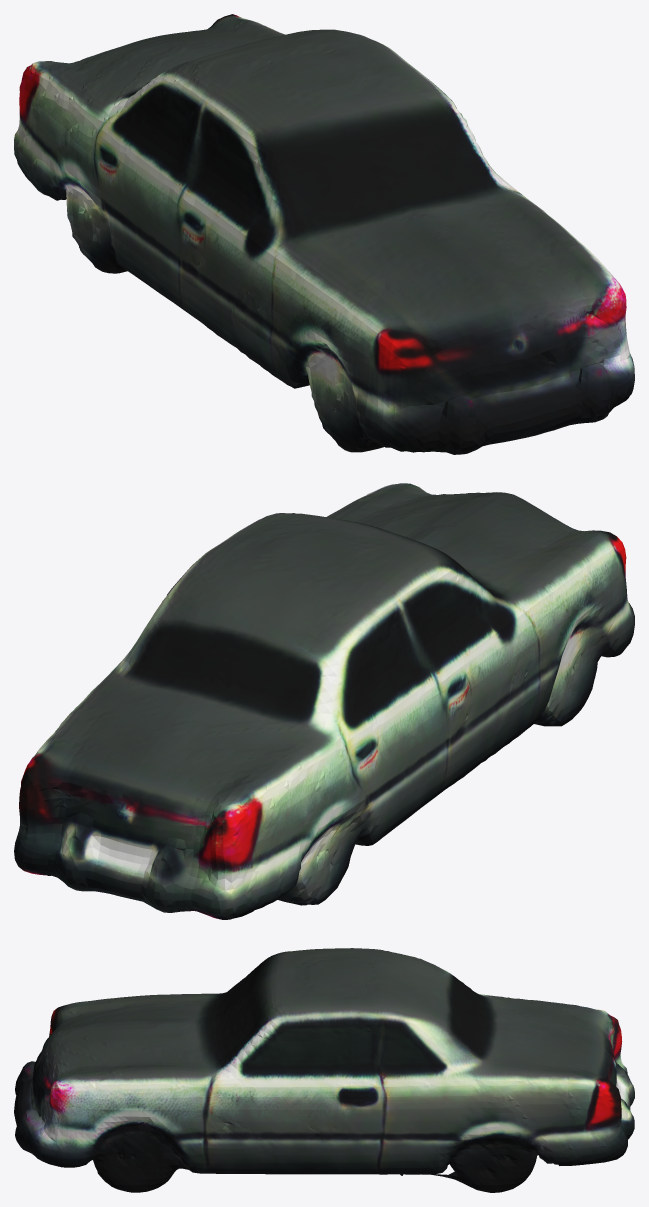
The model's file is wooden_car_m1.glb.
3 views of the same model, one above another, from view 1: azimuth 30°, elevation 25°; view 2: azimuth 150°, elevation 25°; view 3: azimuth 270°, elevation 25° (orthographic). The views are drawn at different scales.
Parts seen in each view (by area): view 1: fine_mesh; view 2: fine_mesh; view 3: fine_mesh.
Part boxes in pixels (x1,y1,x2,y2): fine_mesh: [14, 14, 634, 454]; fine_mesh: [14, 483, 634, 919]; fine_mesh: [14, 948, 634, 1192].
Size of the model in its own units: 0.5848 by 0.5191 by 1.6.
Materials: 1 (1 with a texture image).
